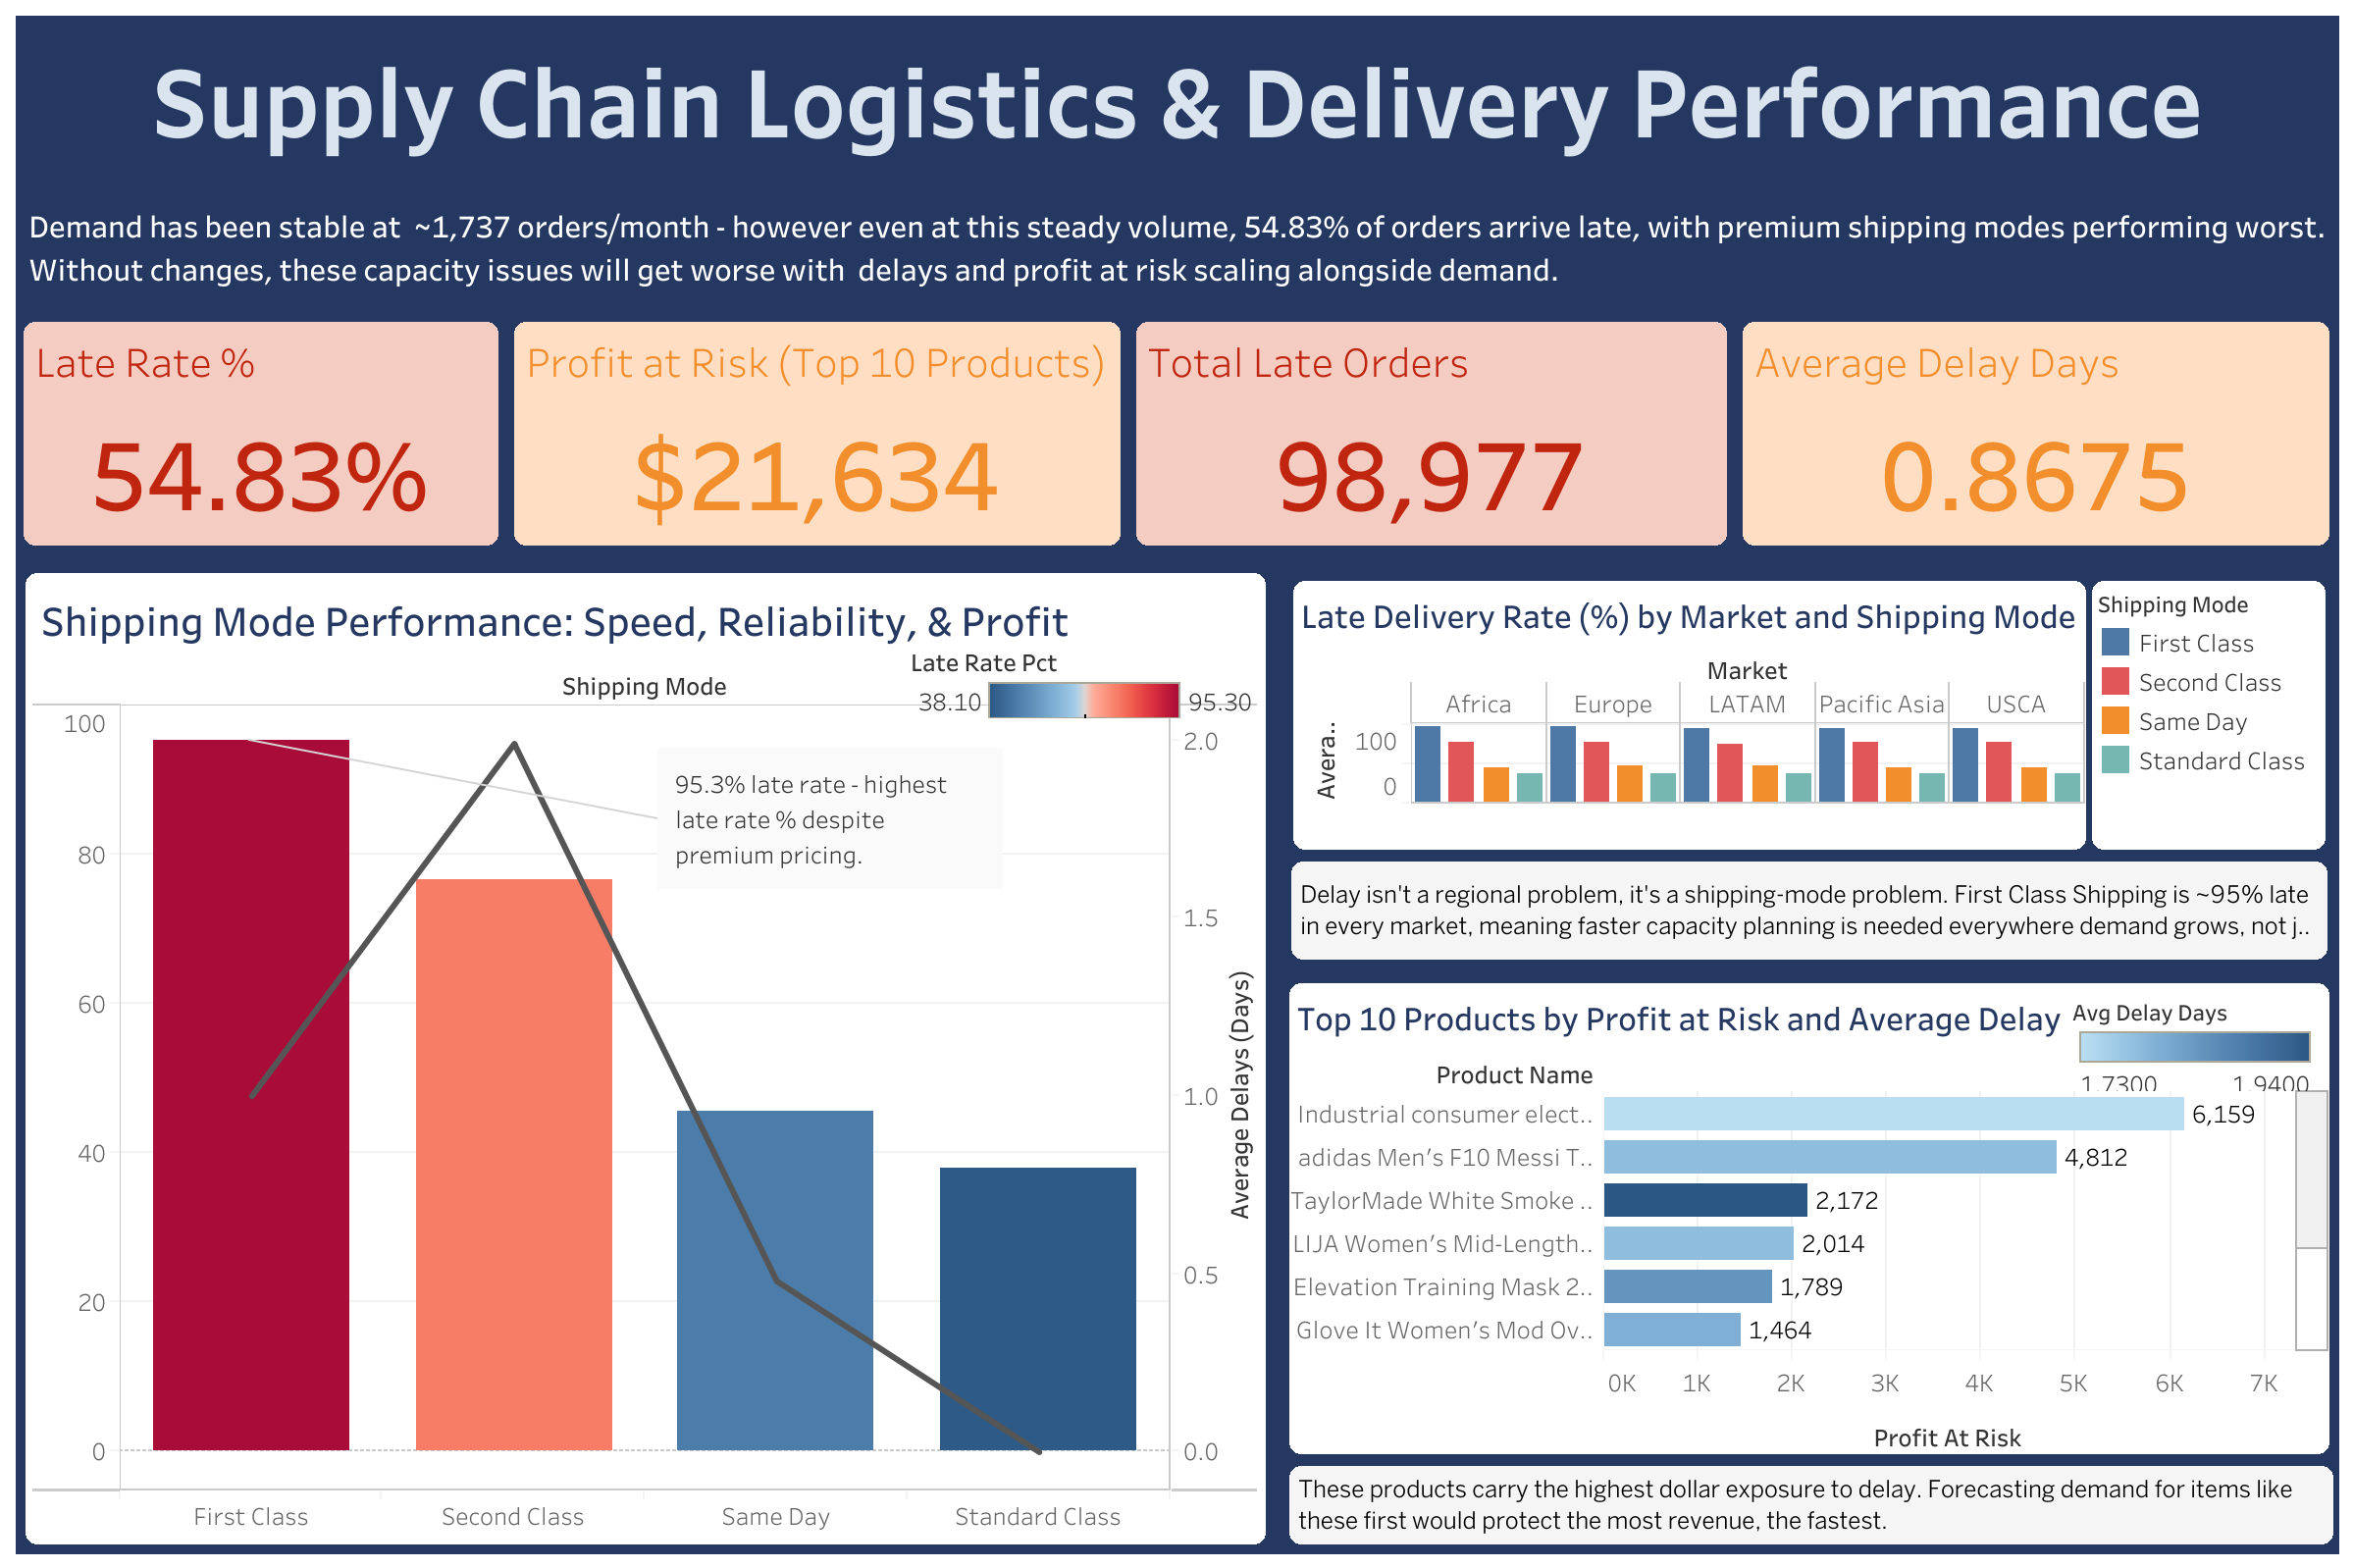

The page's visual inventory and layout, read from the dashboard file:
{"tool":"tableau","page":{"name":"Dashboard 2 - Logistics & Delivery","canvas":[1200,800],"ordinal":1},"visuals":[{"type":"text","box":[8,8,1184,83]},{"type":"text","box":[8,91,1184,69]},{"type":"worksheet","title":"KPI_Rate_Late_Pct","mark":"Automatic","box":[12,164,242,111]},{"type":"worksheet","title":"KPI_Profit_at_Risk","mark":"Text","box":[262,164,309,114]},{"type":"worksheet","title":"KPI_Total_Late_Orders","mark":"Text","box":[579,164,301,111]},{"type":"worksheet","title":"KPI_Avg_Delay_Days","mark":"Text","box":[888,164,299,111]},{"type":"worksheet","title":"Q5 Shipping Mode Economics","mark":"Automatic","rows":["late_rate_pct","avg_delay"],"cols":["shipping_mode"],"box":[13,292,632,495]},{"type":"worksheet","title":"Q1 Late Delivery by Market & Mode","mark":"Automatic","rows":["late_rate_pct"],"cols":["market","shipping_mode"],"box":[655,292,412,145]},{"type":"legend","title":"Q1 Late Delivery by Market & Mode","param":"[federated.17rbzgf1dc0ft41dmbcp614yove5].[none:shipping_mode:nk]","box":[1066,296,119,137]},{"type":"legend","title":"Q5 Shipping Mode Economics","param":"[federated.0lr3fia1ede5bw19obswt006t87y].[sum:late_rate_pct:qk]","box":[464,324,179,42]},{"type":"text","box":[658,439,528,50]},{"type":"legend","title":"Q2 Product Delay Ranking","param":"[federated.1nlk1jn1radk2t1gzzqwj1w1yzxt].[sum:avg_delay_days:qk]","box":[1054,500,130,58]},{"type":"worksheet","title":"Q2 Product Delay Ranking","mark":"Automatic","rows":["product_name"],"cols":["profit_at_risk"],"box":[657,501,530,240]},{"type":"legend","title":"Q2 Product Delay Ranking","param":"[federated.1nlk1jn1radk2t1gzzqwj1w1yzxt].[sum:profit_at_risk:qk]","box":[582,728,140,54]},{"type":"text","box":[657,747,532,40]}]}

Visuals, with their boxes in screenshot pixels (x1, y1, x2, y2), scaled from the page's 1200x800 canvas onto the 2353x1568 screenshot:
text: rect(16, 16, 2337, 179)
text: rect(16, 179, 2337, 314)
"KPI_Rate_Late_Pct" worksheet: rect(24, 322, 498, 539)
"KPI_Profit_at_Risk" worksheet (Text marks): rect(514, 322, 1120, 545)
"KPI_Total_Late_Orders" worksheet (Text marks): rect(1135, 322, 1726, 539)
"KPI_Avg_Delay_Days" worksheet (Text marks): rect(1742, 322, 2327, 539)
"Q5 Shipping Mode Economics" worksheet: rect(26, 572, 1265, 1542)
"Q1 Late Delivery by Market & Mode" worksheet: rect(1284, 572, 2092, 857)
"Q1 Late Delivery by Market & Mode" legend: rect(2090, 580, 2324, 849)
"Q5 Shipping Mode Economics" legend: rect(910, 635, 1261, 717)
text: rect(1290, 861, 2326, 959)
"Q2 Product Delay Ranking" legend: rect(2066, 980, 2322, 1094)
"Q2 Product Delay Ranking" worksheet: rect(1288, 982, 2327, 1452)
"Q2 Product Delay Ranking" legend: rect(1141, 1427, 1416, 1533)
text: rect(1288, 1464, 2331, 1542)
